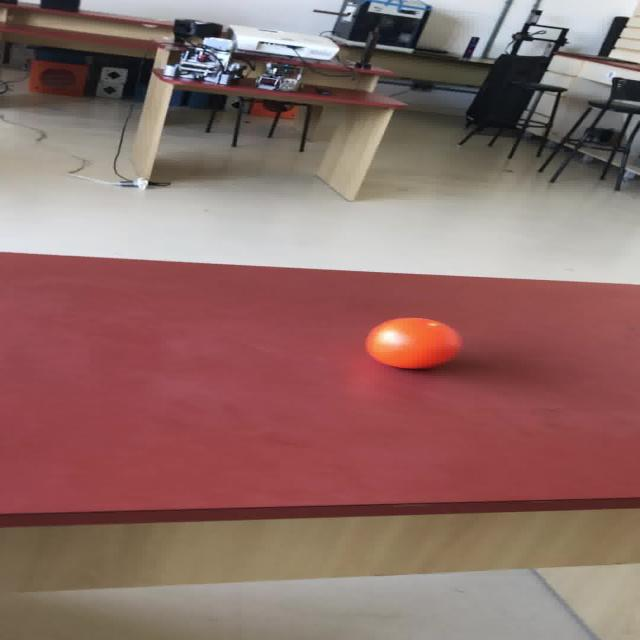orange: (364, 316, 462, 369)
